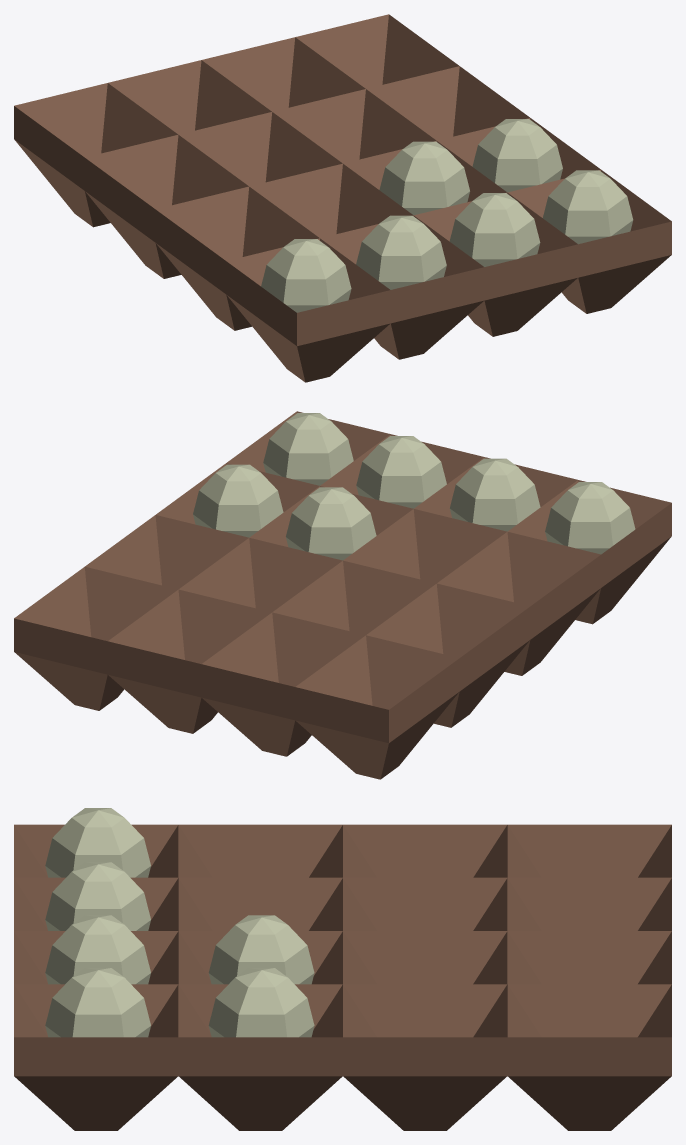
Rendered from Egg Carton.fbx.
3 renders of one model, top to bottom at view 1: azimuth 30°, elevation 25°; view 2: azimuth 150°, elevation 25°; view 3: azimuth 270°, elevation 25°, orthographic. The views are drawn at different scales.
Parts seen in each view (by area): view 1: Egg Carton; view 2: Egg Carton; view 3: Egg Carton.
Part boxes in pixels (box(x1,y1,x2,y2)): Egg Carton: box(14, 14, 671, 382); Egg Carton: box(14, 411, 671, 779); Egg Carton: box(14, 808, 671, 1130).
Size of the model in its own units: 85.75 by 112 by 28.79.
